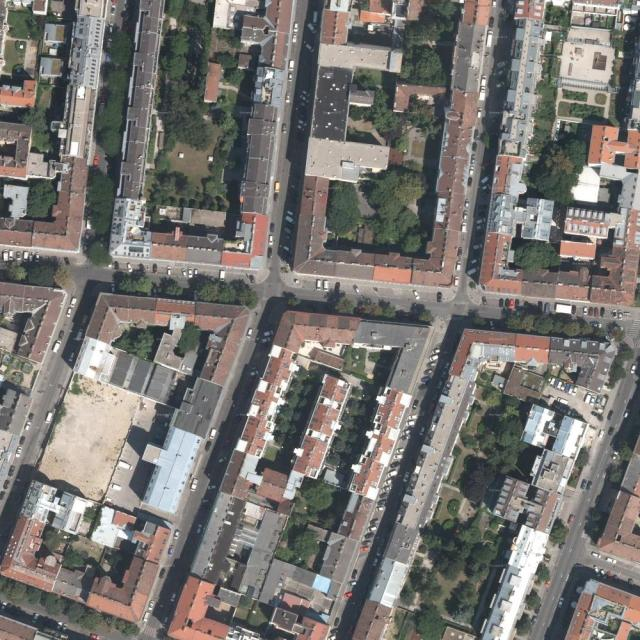building: (17, 272, 249, 631), (351, 371, 482, 640), (302, 385, 422, 630), (478, 0, 547, 293), (272, 281, 434, 395), (246, 528, 379, 640), (33, 370, 143, 503), (292, 175, 422, 287), (451, 328, 617, 391), (84, 293, 249, 354), (234, 64, 283, 266), (116, 0, 165, 200), (514, 410, 590, 535), (590, 126, 640, 304), (477, 523, 552, 640), (239, 467, 298, 600), (235, 343, 301, 460), (60, 2, 107, 160), (557, 0, 623, 92), (509, 261, 635, 306), (0, 282, 67, 364), (150, 226, 272, 271), (217, 499, 268, 591), (565, 580, 640, 640), (108, 197, 157, 261), (153, 324, 203, 375), (0, 121, 42, 180), (73, 336, 119, 384), (37, 21, 70, 82), (520, 404, 561, 451), (562, 205, 612, 241), (521, 196, 554, 242), (570, 164, 601, 203), (6, 393, 34, 436), (239, 455, 262, 499), (241, 16, 274, 45), (558, 240, 597, 263), (3, 185, 29, 219), (0, 387, 20, 411)
greenland: (434, 389, 551, 508), (156, 0, 213, 150), (274, 473, 352, 575), (259, 359, 327, 473), (323, 376, 388, 477), (360, 165, 431, 256), (522, 125, 597, 209), (420, 513, 504, 584), (470, 299, 609, 341), (396, 0, 460, 89), (92, 28, 135, 158), (346, 85, 410, 152), (149, 168, 230, 209), (189, 273, 260, 309), (439, 575, 488, 627), (83, 168, 117, 238), (325, 181, 365, 240), (403, 559, 446, 607), (112, 319, 160, 362), (510, 236, 560, 274), (20, 105, 53, 155), (26, 178, 59, 221), (7, 7, 46, 41), (173, 321, 206, 361), (111, 266, 154, 296), (405, 94, 438, 129), (213, 22, 246, 51), (558, 101, 604, 120), (357, 297, 397, 318), (216, 111, 240, 136), (407, 303, 434, 323), (333, 296, 355, 315), (215, 51, 238, 69)
metalled_road: (139, 291, 289, 627), (447, 12, 518, 280), (270, 0, 326, 266), (273, 265, 474, 320), (548, 538, 640, 619), (9, 360, 74, 468), (48, 272, 114, 366), (248, 265, 291, 346), (69, 264, 112, 290), (260, 340, 271, 359)
